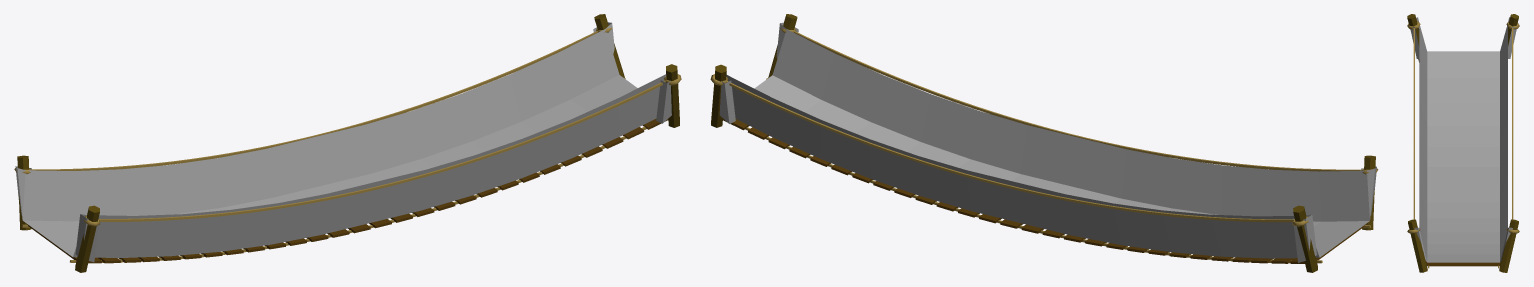
The model's file is ropeBridge.fbx.
The picture shows the model from 3 angles, left to right: view 1: azimuth 30°, elevation 25°; view 2: azimuth 150°, elevation 25°; view 3: azimuth 270°, elevation 25°; orthographic projection. The views are drawn at different scales.
Visible parts, largest first — view 1: polySurface1, pCylinder9; view 2: polySurface1, pCylinder9; view 3: polySurface1, pCylinder9.
Boxes of the visible parts, box(x1,y1,x2,y2) form: polySurface1: box(15, 22, 671, 262); pCylinder9: box(14, 14, 681, 272); polySurface1: box(719, 22, 1376, 262); pCylinder9: box(710, 14, 1378, 272); polySurface1: box(1410, 17, 1516, 262); pCylinder9: box(1407, 14, 1519, 272).
Size of the model in its own units: 71.14 by 11.1 by 15.78.
